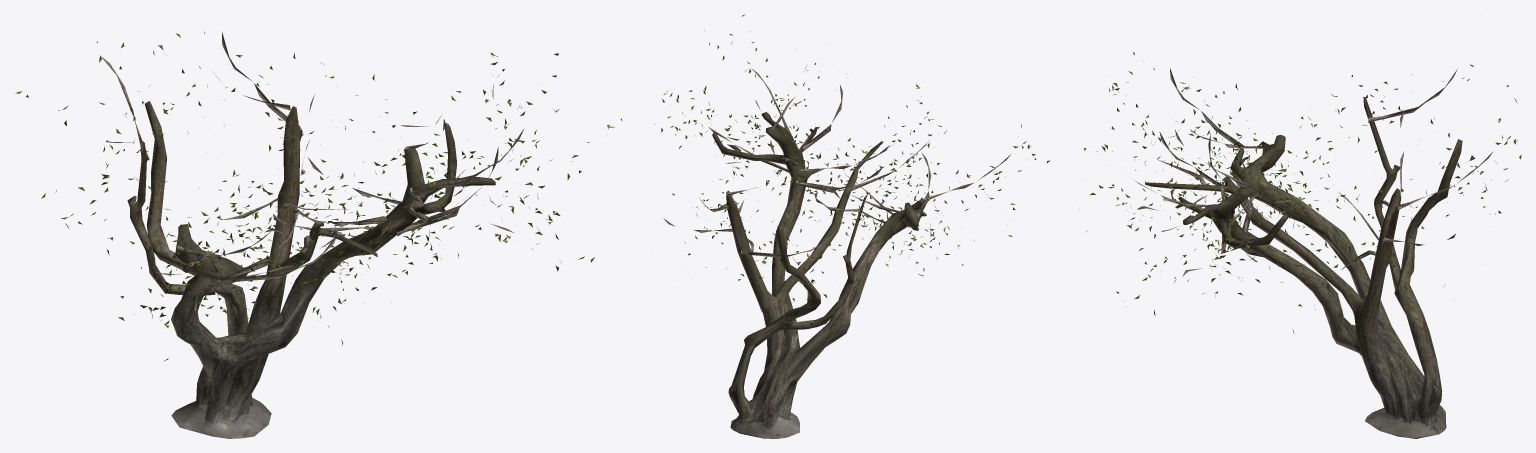
The model's file is broadleaf-island-02.glb.
3 views of the same model, side by side, from view 1: azimuth 30°, elevation 25°; view 2: azimuth 150°, elevation 25°; view 3: azimuth 270°, elevation 25° (orthographic). The views are drawn at different scales.
Visible parts, largest first — view 1: island_tree_02_LOD0; view 2: island_tree_02_LOD0; view 3: island_tree_02_LOD0.
Part boxes in pixels (bbox=[...]): island_tree_02_LOD0: bbox=[15, 31, 622, 438]; island_tree_02_LOD0: bbox=[654, 14, 1050, 438]; island_tree_02_LOD0: bbox=[1079, 52, 1521, 438].
Bounding box in the file's own units: 3.74 × 3.27 × 3.77.
3 materials, 3 textured.
